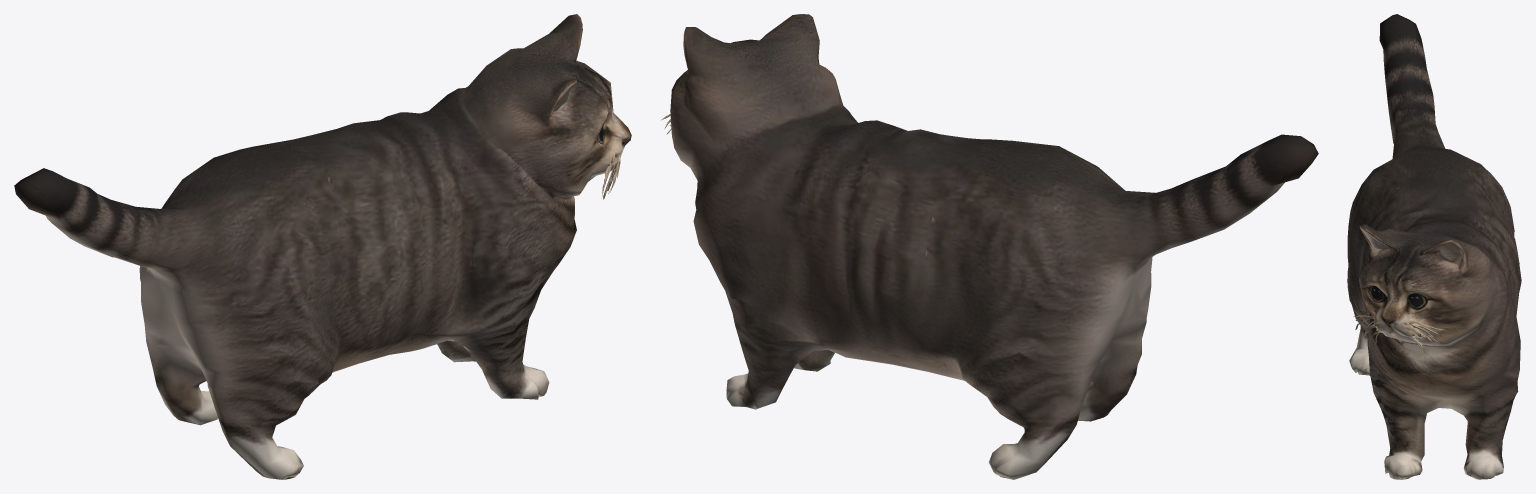
Rendered from HUBBUB-lo.glb.
3 views of the same model, side by side, from view 1: azimuth 30°, elevation 25°; view 2: azimuth 150°, elevation 25°; view 3: azimuth 270°, elevation 25° (orthographic). The views are drawn at different scales.
Parts seen in each view (by area): view 1: tripo_node_4758ae96-d0bc-434a-8a61-0f14d4149075; view 2: tripo_node_4758ae96-d0bc-434a-8a61-0f14d4149075; view 3: tripo_node_4758ae96-d0bc-434a-8a61-0f14d4149075.
Part boxes in pixels (bbox=[...]): tripo_node_4758ae96-d0bc-434a-8a61-0f14d4149075: bbox=[14, 14, 631, 479]; tripo_node_4758ae96-d0bc-434a-8a61-0f14d4149075: bbox=[661, 14, 1318, 479]; tripo_node_4758ae96-d0bc-434a-8a61-0f14d4149075: bbox=[1347, 14, 1521, 479].
Size of the model in its own units: 1.89 by 0.9962 by 0.5823.
1 material, 1 textured.
